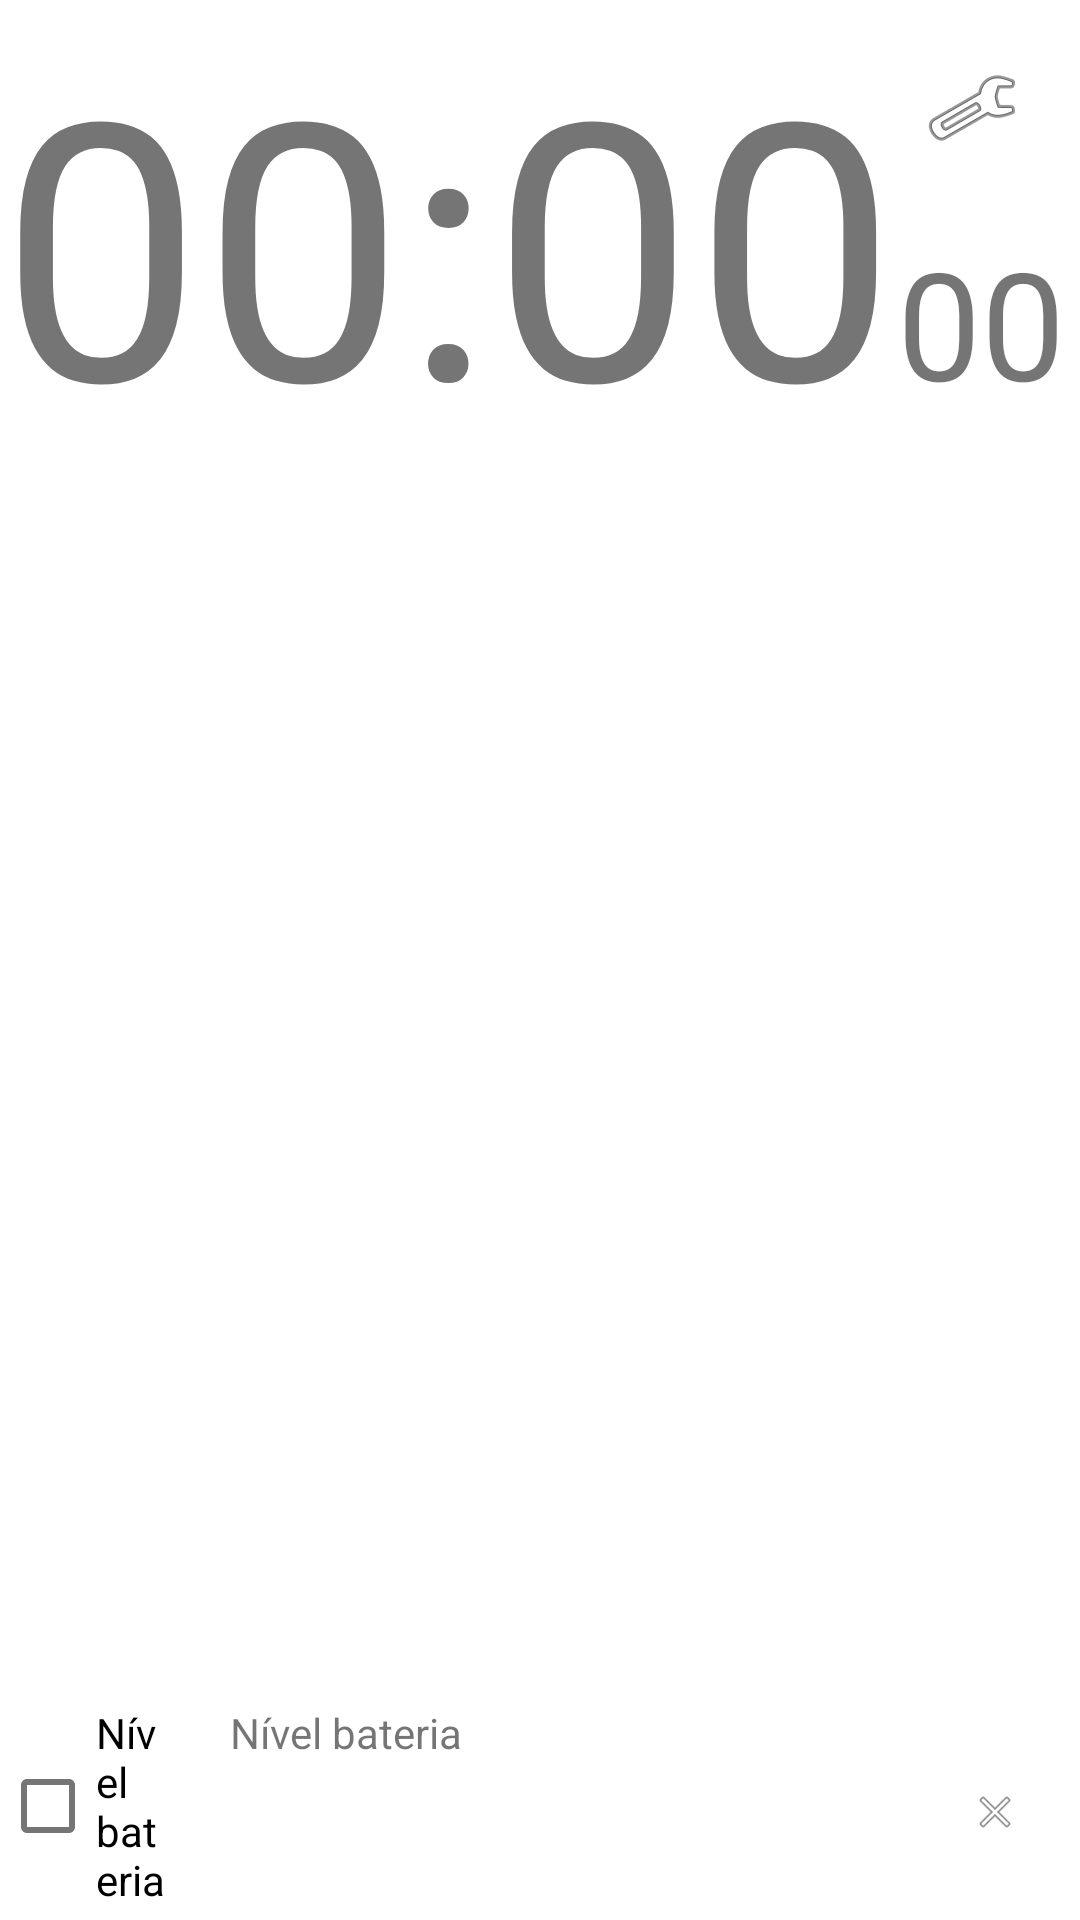

Named icons in this screenshot (1080*1920) and their bounding boxes, [left=x1, top=y1, right=x2, bottom=y2]:
close clear cancel: [left=979, top=1796, right=1011, bottom=1828]
preferences: [left=929, top=75, right=1015, bottom=141]
